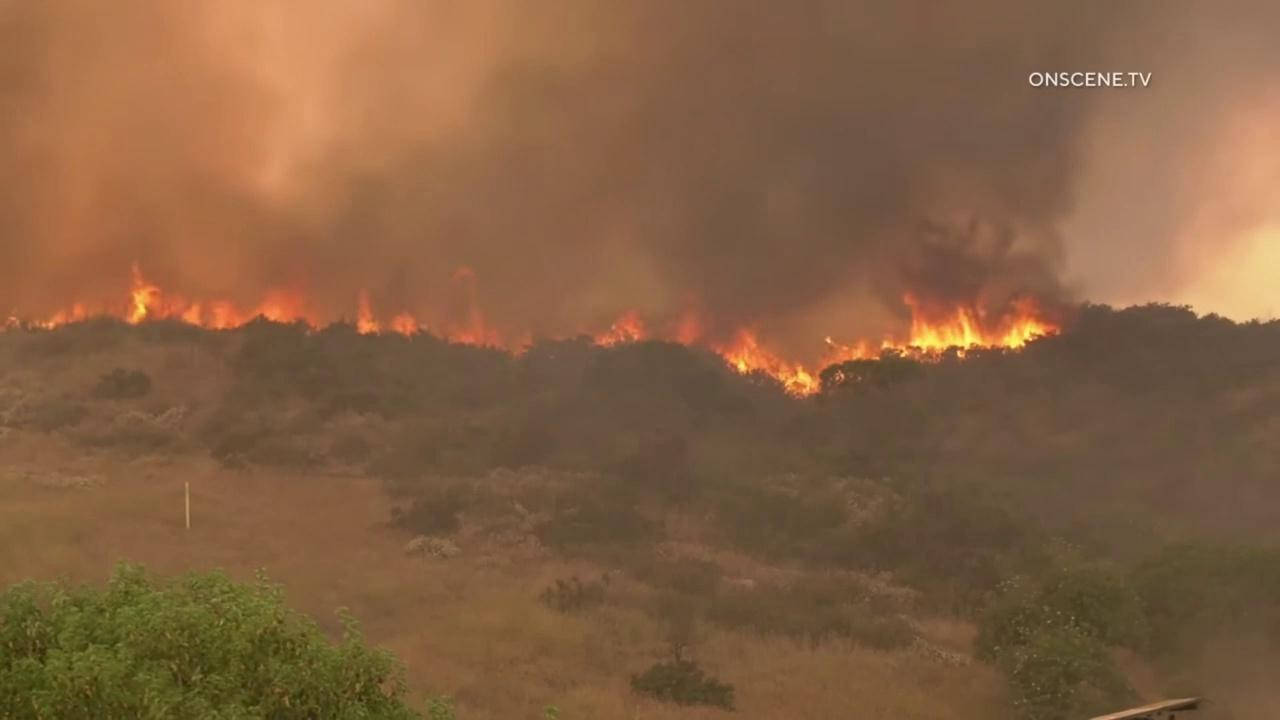fire: (674, 291, 1063, 402), (28, 260, 323, 334), (443, 264, 508, 354), (592, 307, 649, 351), (385, 307, 430, 344), (355, 286, 385, 336), (513, 330, 534, 361), (0, 306, 23, 334)
smoke: (0, 0, 1280, 310)
